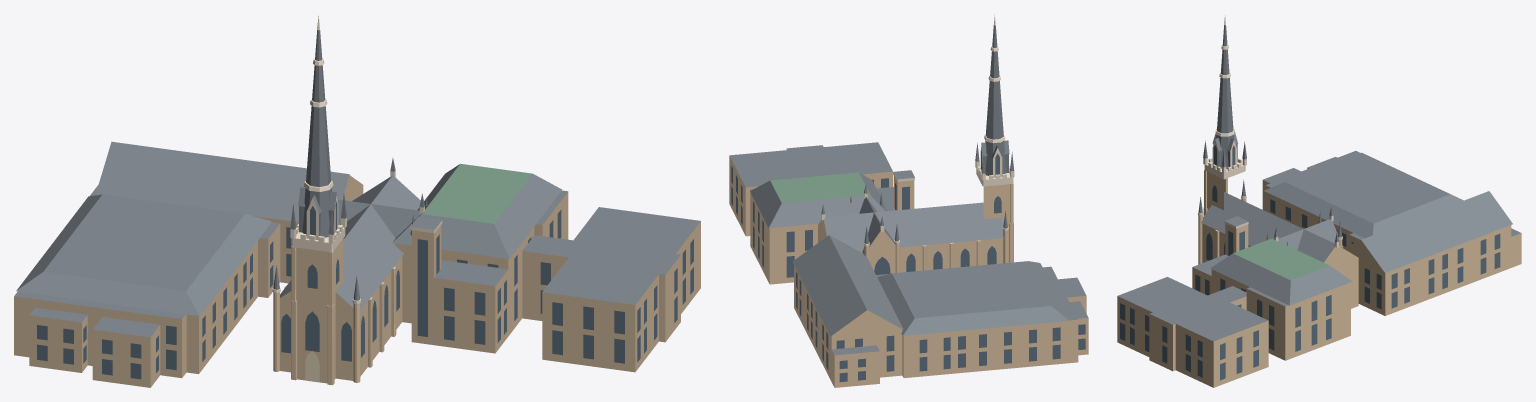
The model's file is detail.glb.
3 renders of one model, left to right at view 1: azimuth 30°, elevation 25°; view 2: azimuth 150°, elevation 25°; view 3: azimuth 270°, elevation 25°, orthographic. The views are drawn at different scales.
Parts seen in each view (by area): view 1: first-presbyterian-church; view 2: first-presbyterian-church; view 3: first-presbyterian-church.
Part boxes in pixels (left/top/right/bottom): first-presbyterian-church: left=14, top=16, right=700, bottom=387; first-presbyterian-church: left=729, top=14, right=1088, bottom=387; first-presbyterian-church: left=1117, top=15, right=1521, bottom=387.
Size of the model in its own units: 109 by 64 by 94.52.
